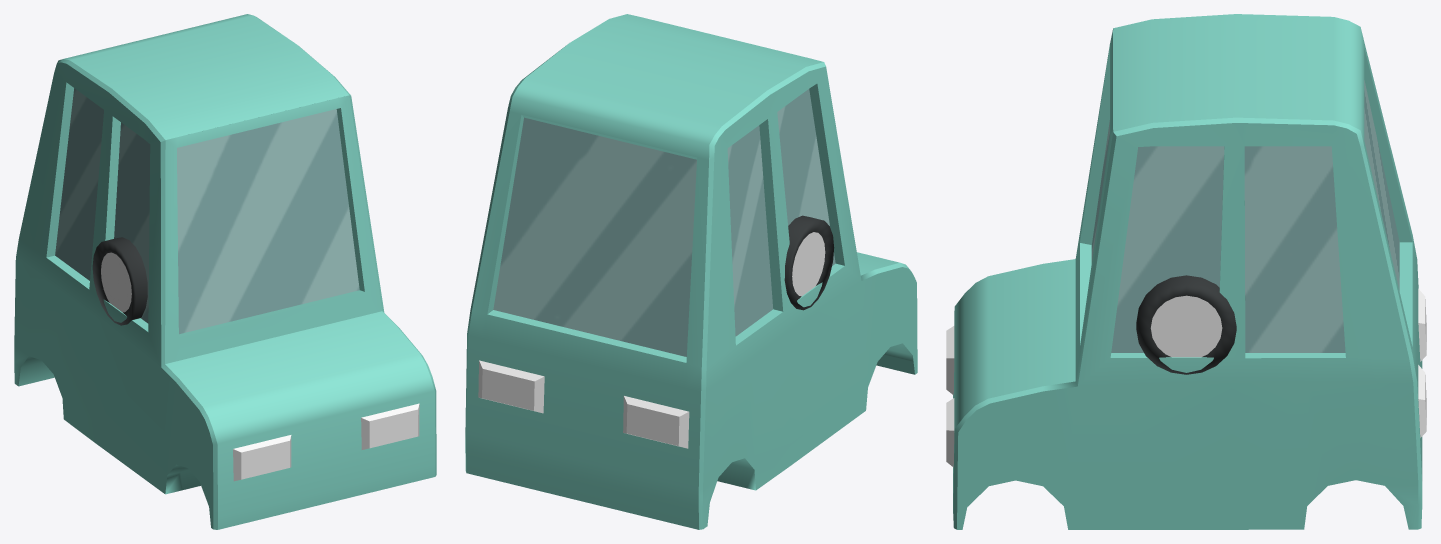
Rendered from car_2_T.fbx.
3 views of the same model, side by side, from view 1: azimuth 30°, elevation 25°; view 2: azimuth 150°, elevation 25°; view 3: azimuth 270°, elevation 25° (orthographic). The views are drawn at different scales.
Visible parts, largest first — view 1: car_2_chasis_T, car_2_right_wheel_T, car_2_back_wheel_T; view 2: car_2_chasis_T, car_2_right_wheel_T, car_2_back_wheel_T; view 3: car_2_chasis_T, car_2_left_wheel_T, car_2_back_wheel_T.
Part boxes in pixels (x1,y1,x2,y2): car_2_chasis_T: (14, 14, 436, 529); car_2_right_wheel_T: (92, 241, 147, 324); car_2_back_wheel_T: (92, 237, 147, 325); car_2_chasis_T: (465, 14, 917, 529); car_2_right_wheel_T: (785, 219, 834, 308); car_2_back_wheel_T: (784, 215, 833, 310); car_2_chasis_T: (946, 14, 1426, 529); car_2_left_wheel_T: (1136, 283, 1236, 372); car_2_back_wheel_T: (1136, 275, 1236, 374).
Size of the model in its own units: 80.78 by 120 by 130.
